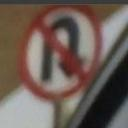NoVirarU: (16, 5, 106, 103)
